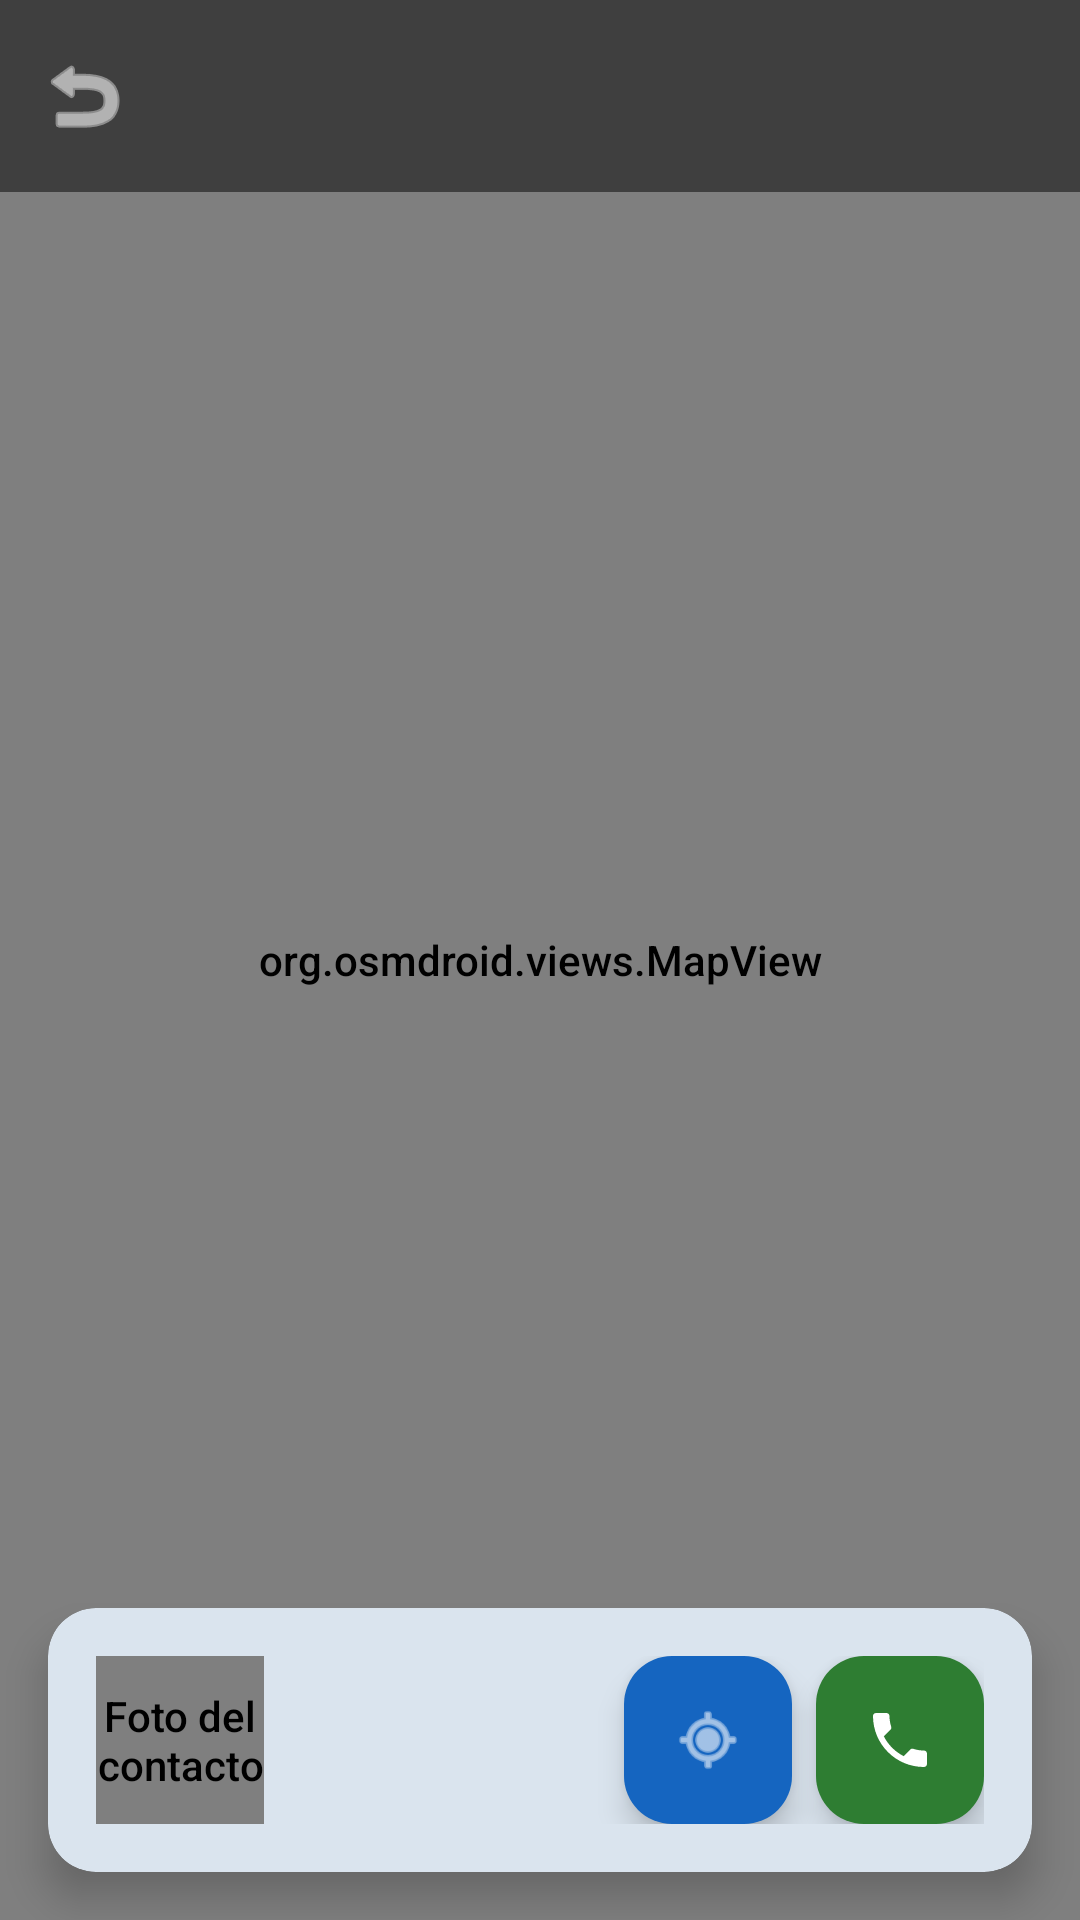

Icon click points for this 1080 × 1920 phone screenshot, format point (x, y):
Centrar: point (708, 1740)
Llamar: point (900, 1740)
